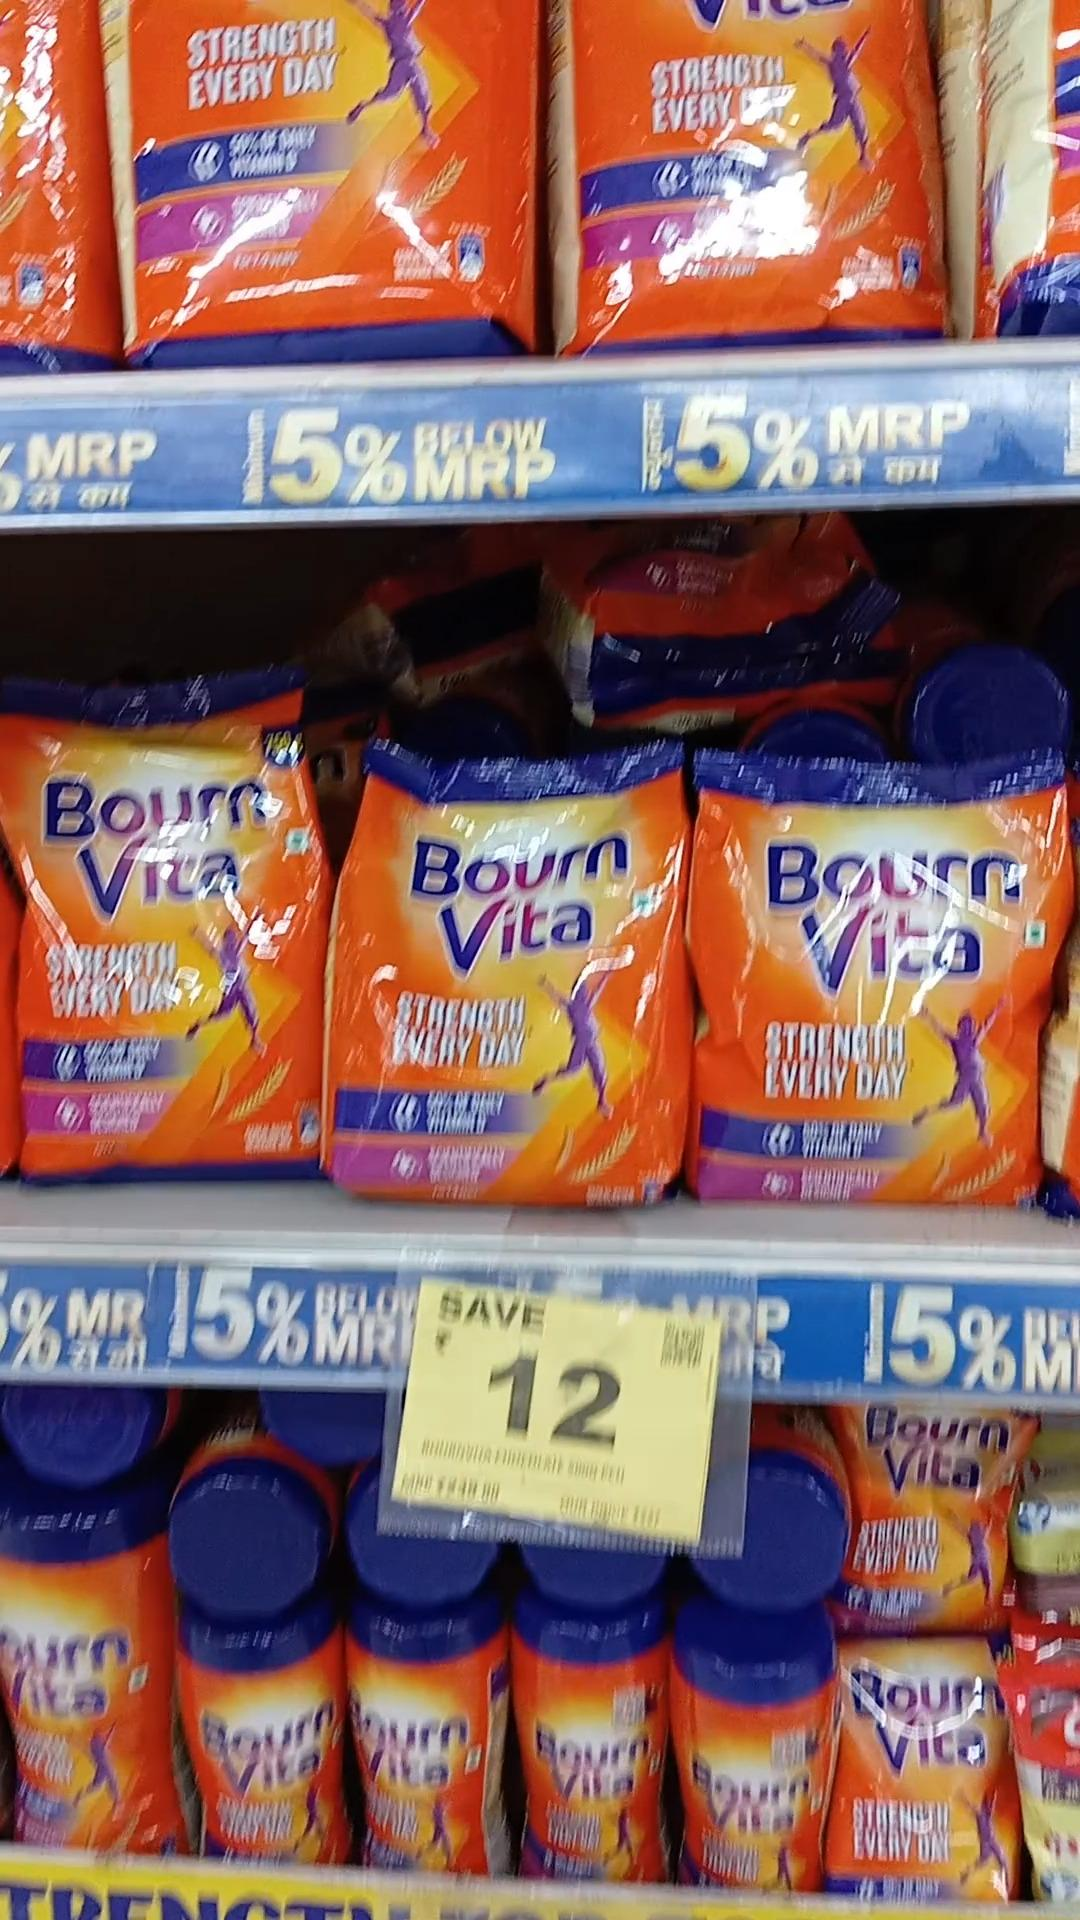BOURN_VITA_200_G_JAR: (518, 1604, 662, 1882), (182, 1623, 343, 1861), (678, 1623, 812, 1900), (357, 1614, 488, 1870)
BOURN_VITA_500_G_JAR: (0, 1501, 162, 1851)
BOURN_VITA_500_G_POUCH: (340, 736, 678, 1208), (696, 740, 1035, 1209)
BOURN_VITA_750_G_POUCH: (5, 666, 318, 1178)
BOURN_VITA_75_G_POUCH: (829, 1644, 1013, 1904)
